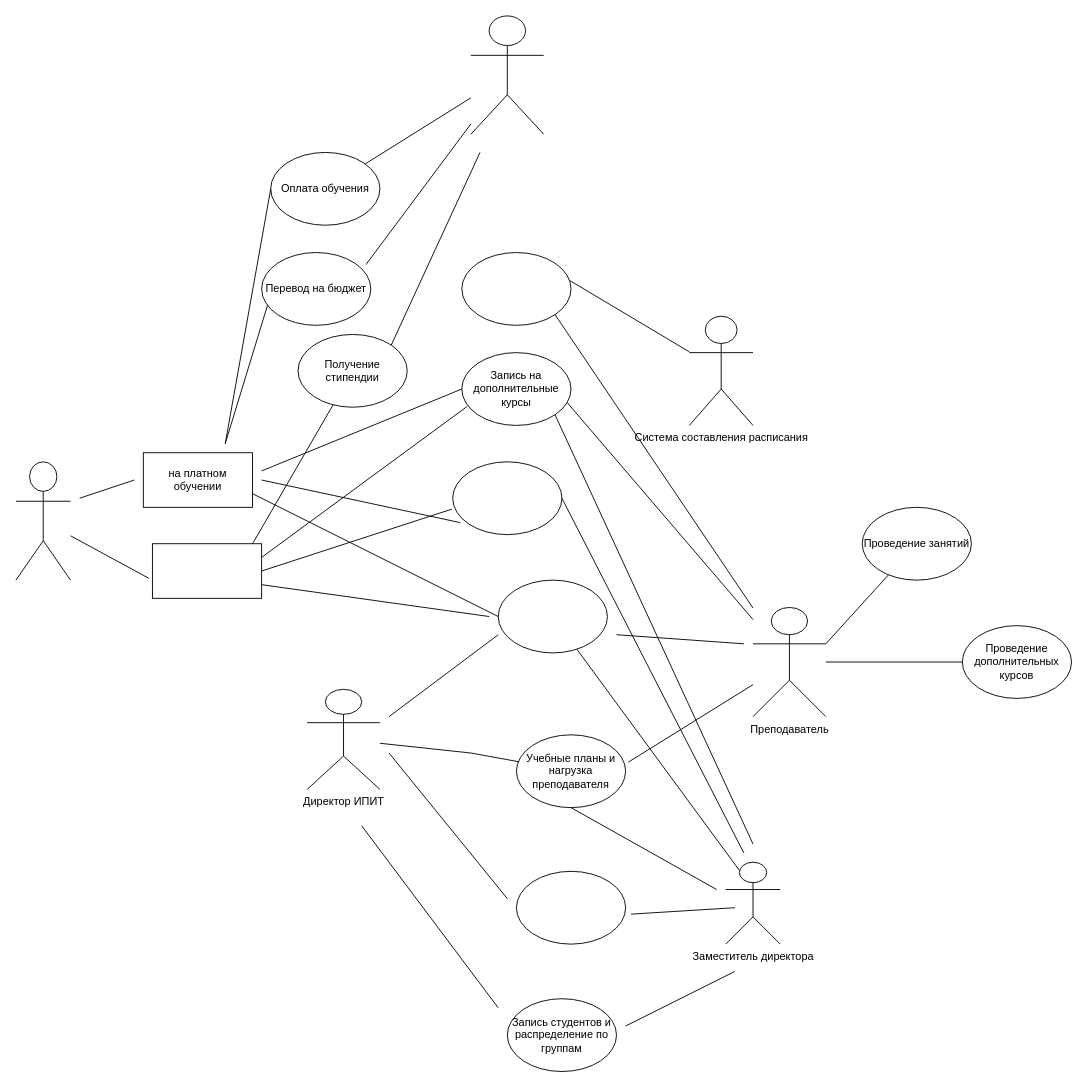
Image size: 1087x1087. Some labels were removed from this diagram. The centre of each missing label's shape, as x and y in pixels:
"на бюджете" belongs at point (207, 570).
"Переход из одной группы в другую" belongs at point (507, 498).
"Планирование учебного процесса" belongs at point (516, 288).
"Получение сведений о студентах и группах" belongs at point (571, 907).
"Студент" belongs at point (43, 520).
"Успеваемость студентов" belongs at point (552, 616).
"Финансовый отдел" belongs at point (507, 74).
